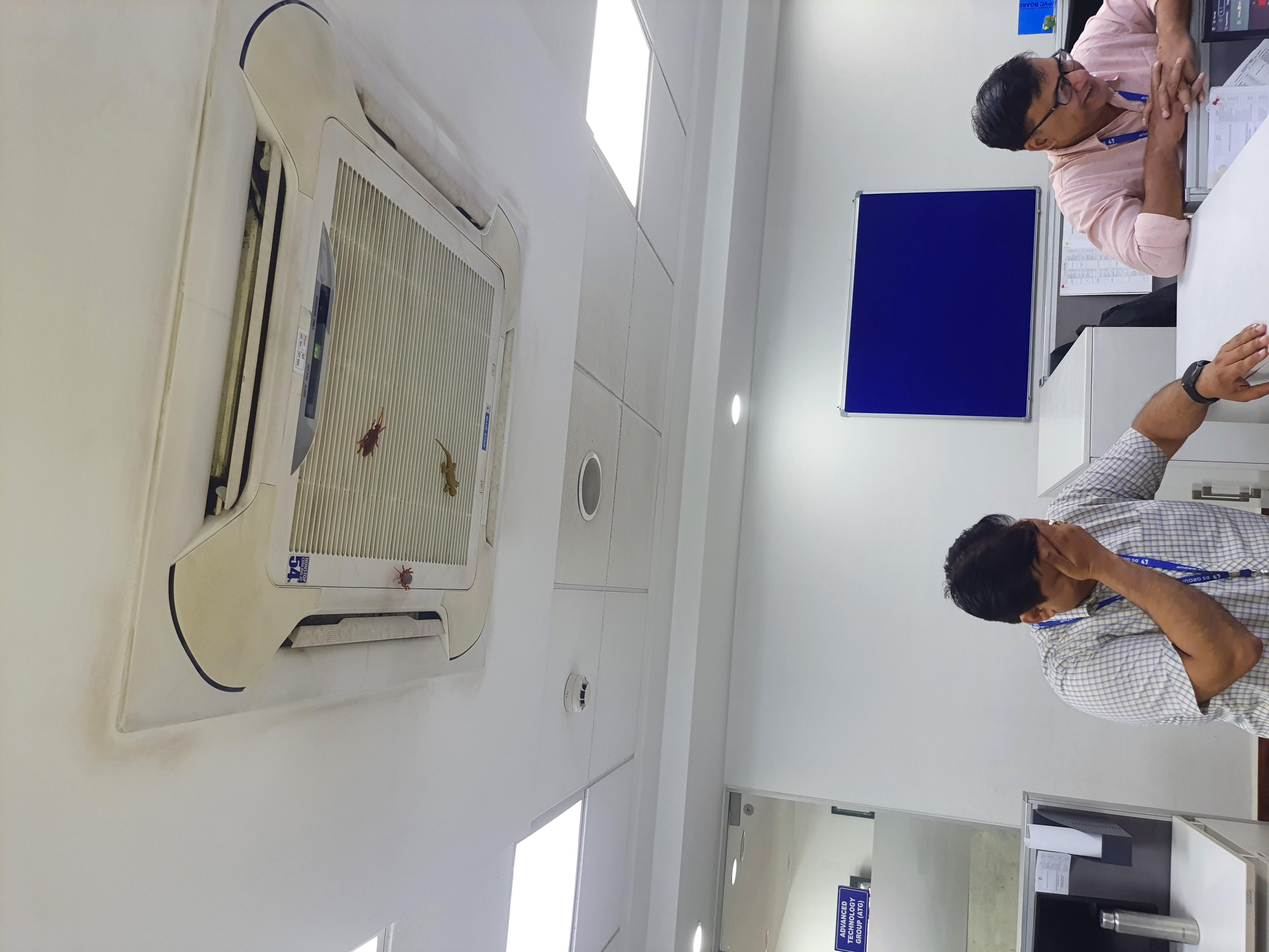cockroach: (646, 252, 735, 302), (475, 285, 550, 326)
lizard: (601, 319, 698, 347)
